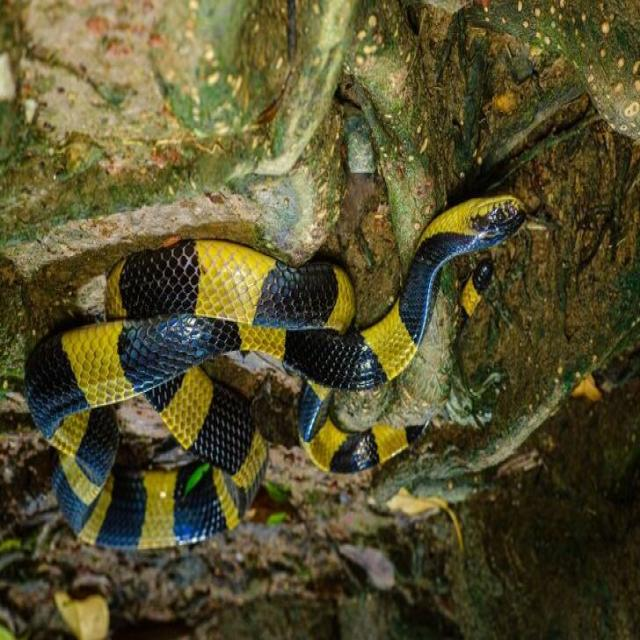Venomous: (424, 183, 518, 250)
